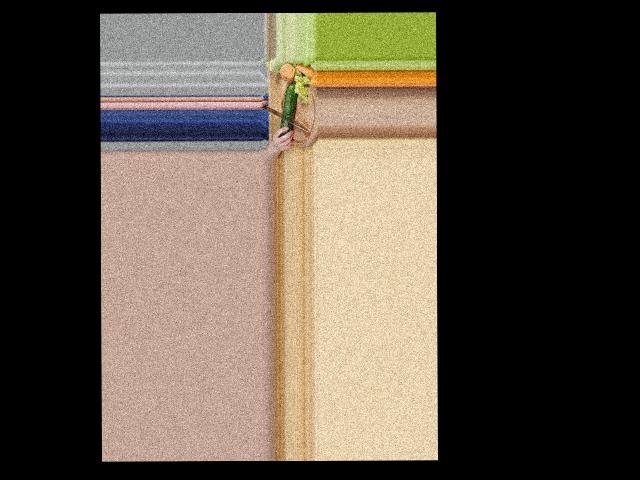cucumber: (280, 82, 297, 136)
